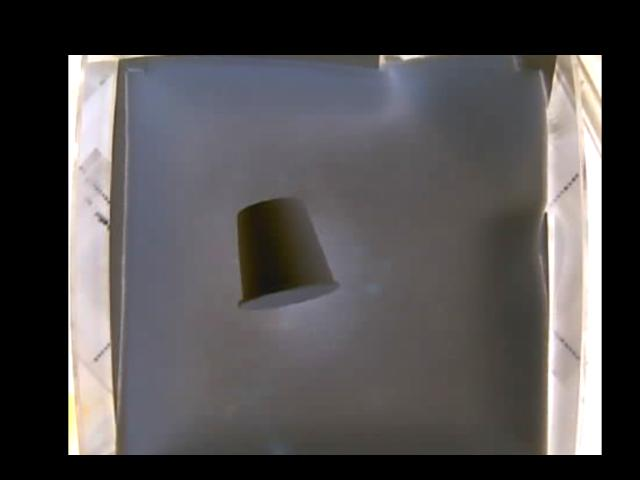Cup: (236, 198, 338, 312)
